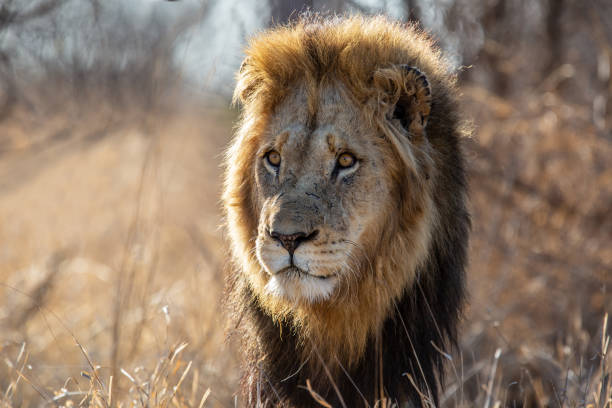lion: (178, 10, 487, 378)
